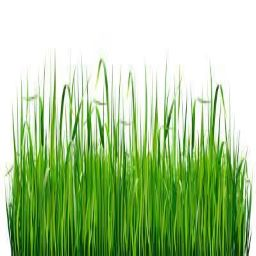grass: (6, 48, 251, 253)
